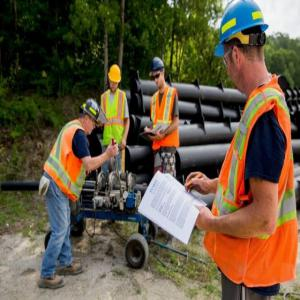blue: (216, 2, 272, 91), (80, 98, 101, 136), (150, 57, 168, 89)
yellow: (109, 64, 122, 95)
